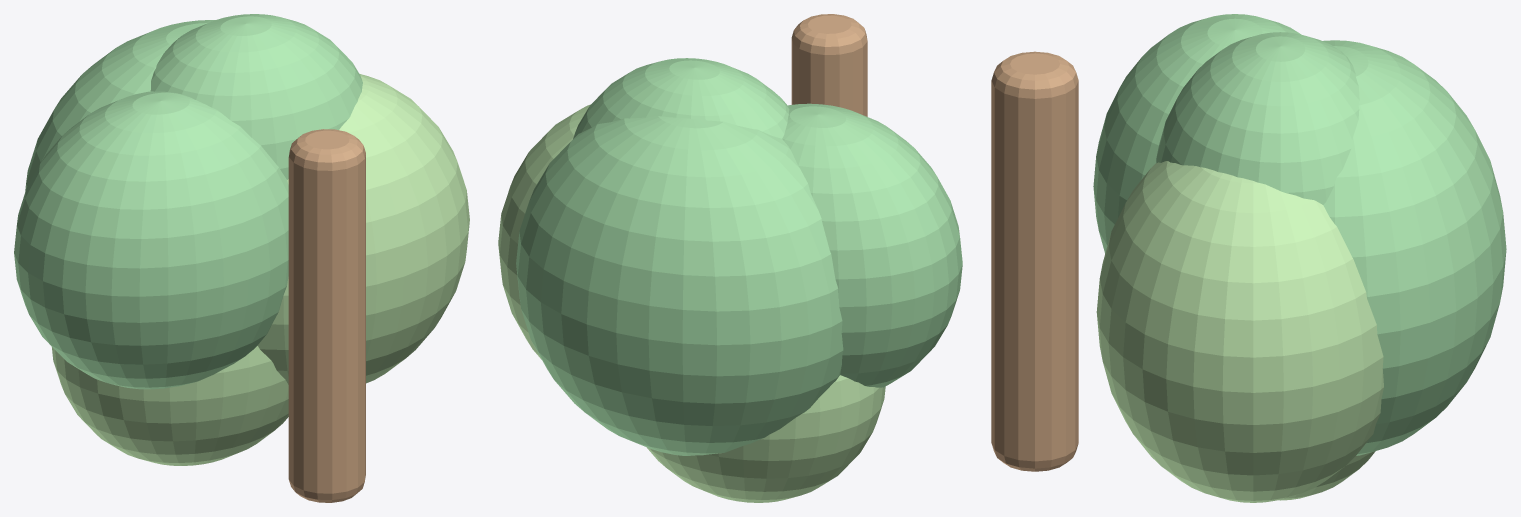
The model's file is tree_apple_mature.fbx.
3 views of the same model, side by side, from view 1: azimuth 30°, elevation 25°; view 2: azimuth 150°, elevation 25°; view 3: azimuth 270°, elevation 25° (orthographic). The views are drawn at different scales.
Parts seen in each view (by area): view 1: tree_apple_mature, tree_apple_mature_tronco; view 2: tree_apple_mature, tree_apple_mature_tronco; view 3: tree_apple_mature, tree_apple_mature_tronco.
Part boxes in pixels (bbox=[...]): tree_apple_mature: bbox=[14, 14, 469, 465]; tree_apple_mature_tronco: bbox=[288, 129, 365, 502]; tree_apple_mature: bbox=[498, 58, 962, 502]; tree_apple_mature_tronco: bbox=[791, 14, 867, 116]; tree_apple_mature: bbox=[1093, 14, 1506, 502]; tree_apple_mature_tronco: bbox=[991, 51, 1078, 471].
Bounding box in the file's own units: 310 × 285 × 283.
